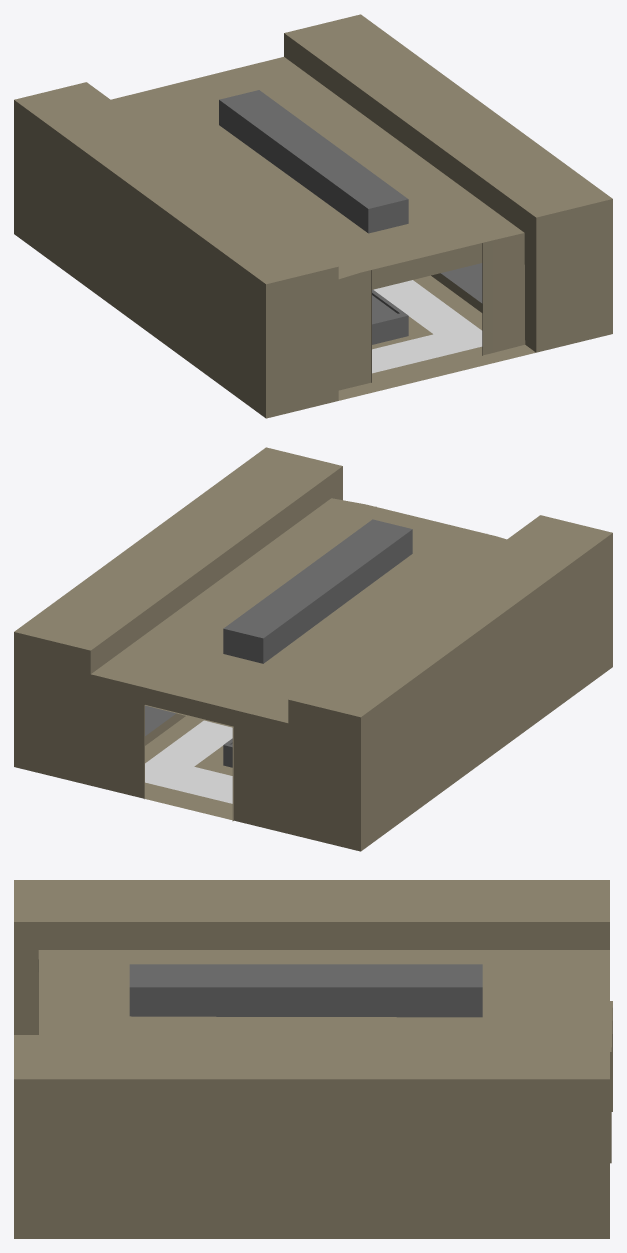
The model's file is EngineeringRoom.glb.
3 renders of one model, top to bottom at view 1: azimuth 30°, elevation 25°; view 2: azimuth 150°, elevation 25°; view 3: azimuth 270°, elevation 25°, orthographic. The views are drawn at different scales.
Parts seen in each view (by area): view 1: Engineering, Abyss Drive Slot; view 2: Engineering, Abyss Drive Slot; view 3: Engineering, Abyss Drive Slot.
Boxes of the visible parts, x1,y1,x2,y2 form: Engineering: [14, 14, 612, 418]; Abyss Drive Slot: [219, 90, 408, 344]; Engineering: [14, 447, 612, 851]; Abyss Drive Slot: [223, 519, 412, 767]; Engineering: [14, 880, 612, 1238]; Abyss Drive Slot: [129, 964, 482, 1017].
Bounding box in the file's own units: 8.11 × 3.33 × 10.26.
